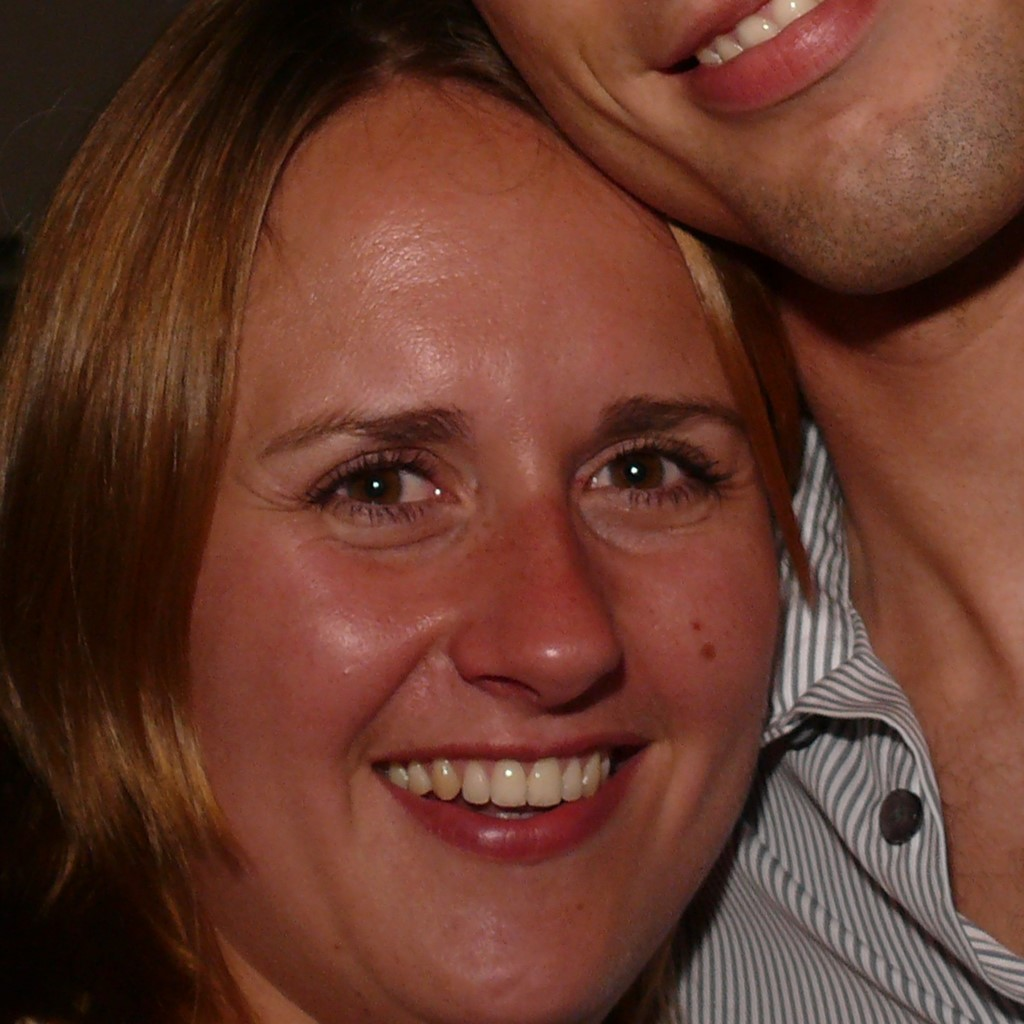sin_mascara: (101, 112, 766, 1017)
